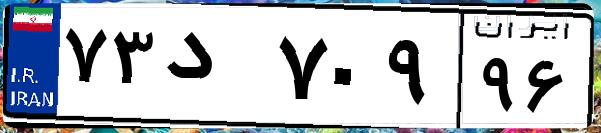0: (330, 28, 385, 110)
3: (110, 28, 158, 98)
6: (525, 38, 570, 115)
7: (270, 28, 330, 110), (57, 26, 110, 100)
9: (385, 28, 445, 110), (475, 38, 525, 113)
د: (158, 20, 270, 120)
